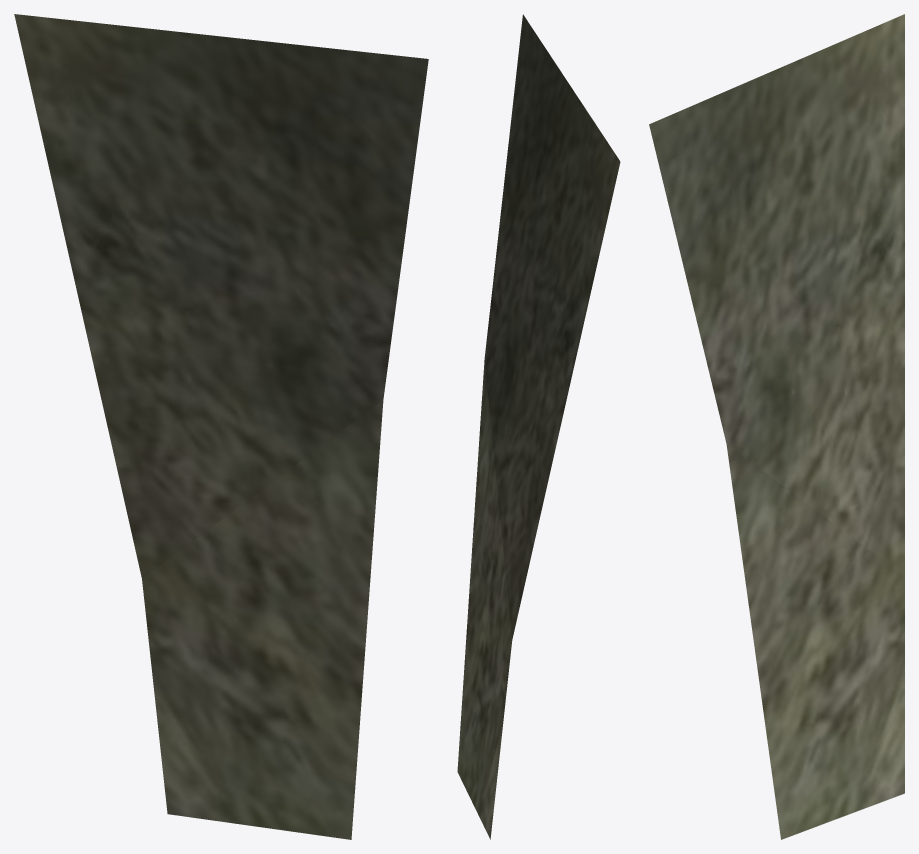
3 renders of one model, left to right at view 1: azimuth 30°, elevation 25°; view 2: azimuth 150°, elevation 25°; view 3: azimuth 270°, elevation 25°, orthographic. The views are drawn at different scales.
Size of the model in its own units: 0.9758 by 2.95 by 0.9559.
Materials: 1 (1 with a texture image).
